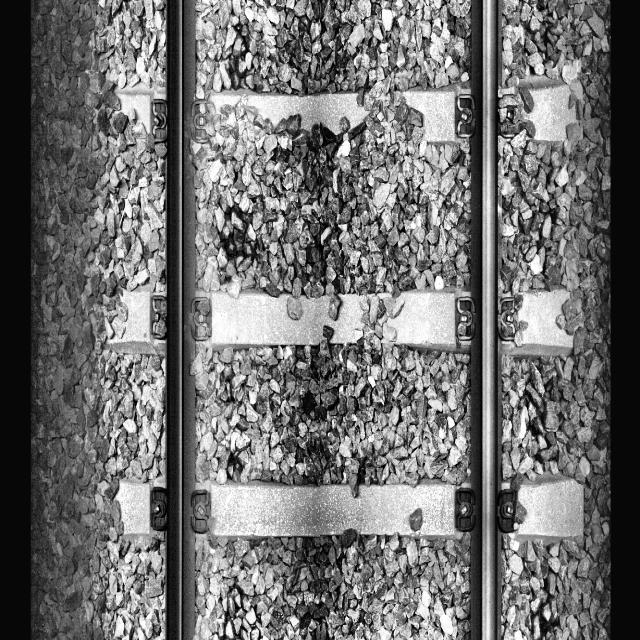Clips: (452, 90, 477, 138), (188, 296, 211, 342), (190, 486, 211, 534), (498, 301, 523, 340), (454, 486, 476, 530), (191, 96, 210, 146), (148, 486, 168, 530), (496, 488, 516, 530), (457, 298, 475, 341), (150, 100, 168, 140), (150, 296, 167, 337)
Sleepers: (103, 274, 576, 370), (108, 71, 582, 155), (113, 472, 589, 546)
